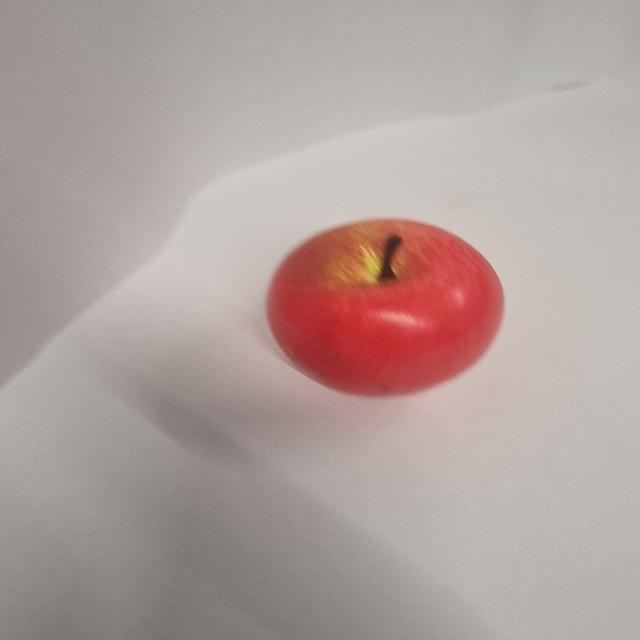apple: (266, 217, 507, 398)
